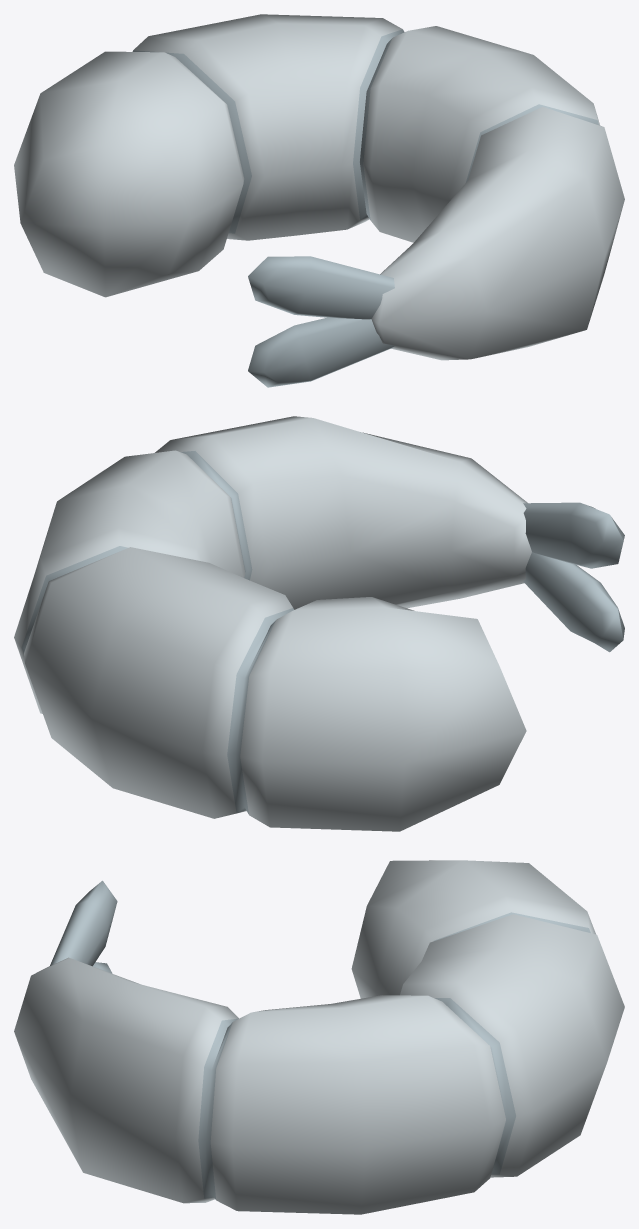
File: Shrimp_2_Peeled_1.fbx
3 renders of one model, top to bottom at view 1: azimuth 30°, elevation 25°; view 2: azimuth 150°, elevation 25°; view 3: azimuth 270°, elevation 25°, orthographic. The views are drawn at different scales.
Parts seen in each view (by area): view 1: Shrimp_2_Peeled_1; view 2: Shrimp_2_Peeled_1; view 3: Shrimp_2_Peeled_1.
Part boxes in pixels (x1,y1,x2,y2): Shrimp_2_Peeled_1: (14,14,624,387); Shrimp_2_Peeled_1: (14,416,624,831); Shrimp_2_Peeled_1: (14,860,624,1214).
Size of the model in its own units: 10.18 by 3.95 by 10.79.
